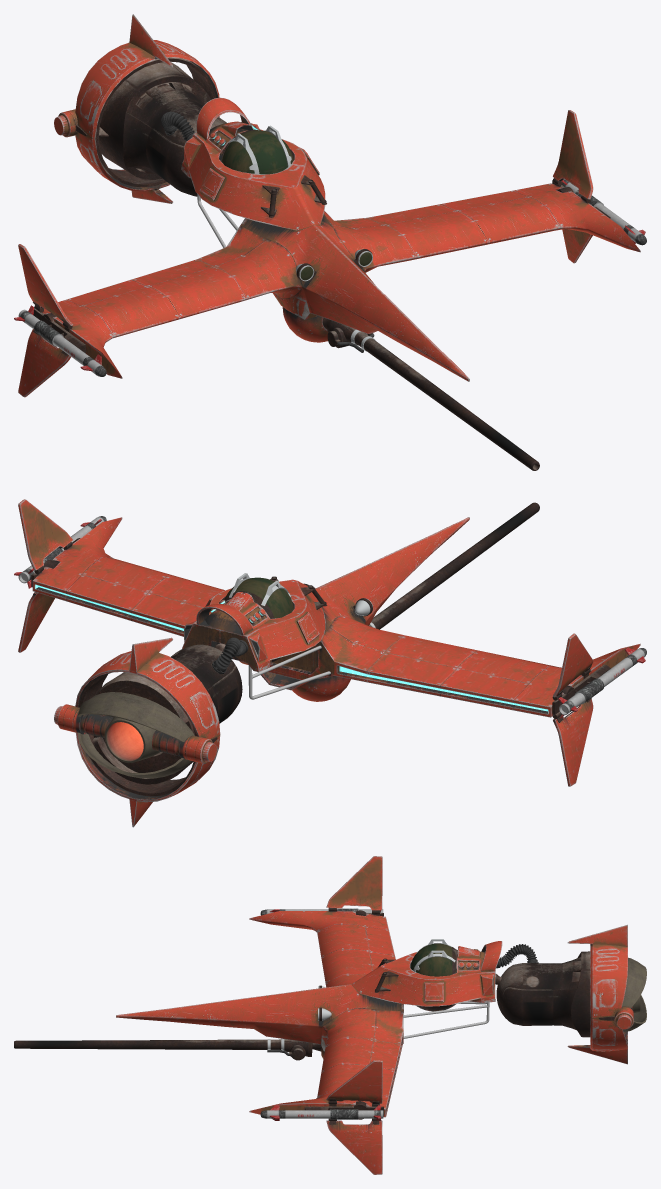
File: inimigoCorsario.glb
The picture shows the model from 3 angles, top to bottom: view 1: azimuth 30°, elevation 25°; view 2: azimuth 150°, elevation 25°; view 3: azimuth 270°, elevation 25°; orthographic projection. The views are drawn at different scales.
Visible parts, largest first — view 1: Body_low, Afterruner_low, MinWings_low, BackWing_low, Barrel_low, Rocket_low, Cockpit_low, WingSup_low, Wings_low, SphereAim_low; view 2: Body_low, Afterruner_low, BackWing_low, MinWings_low, ForwardThrust_low, Rocket_low, FTrotate_low, Barrel_low, WingSup_low, Cockpit_low, SphereAim_low, Wings_low (+2 smaller); view 3: Body_low, Afterruner_low, MinWings_low, BackWing_low, Barrel_low, Rocket_low, ForwardThrust_low, Cockpit_low, Wings_low, Hose_low.
Part boxes in pixels (x1,y1,x2,y2): Body_low: (42, 121, 640, 381); Afterruner_low: (99, 62, 226, 196); MinWings_low: (18, 110, 593, 397); BackWing_low: (75, 14, 219, 203); Barrel_low: (322, 317, 539, 470); Rocket_low: (14, 179, 646, 376); Cockpit_low: (222, 130, 293, 174); WingSup_low: (96, 57, 215, 187); Wings_low: (196, 97, 250, 139); SphereAim_low: (282, 307, 327, 342); Body_low: (32, 517, 640, 717); Afterruner_low: (92, 644, 242, 784); BackWing_low: (75, 637, 220, 827); MinWings_low: (18, 499, 593, 786); ForwardThrust_low: (78, 692, 194, 778); Rocket_low: (14, 516, 646, 718); FTrotate_low: (54, 704, 216, 763); Barrel_low: (369, 502, 539, 629); WingSup_low: (78, 672, 196, 796); Cockpit_low: (224, 577, 293, 618); SphereAim_low: (292, 676, 350, 701); Wings_low: (196, 604, 252, 635); Body_low: (116, 911, 495, 1117); Afterruner_low: (496, 951, 640, 1037); MinWings_low: (326, 856, 382, 1174); BackWing_low: (567, 924, 627, 1064); Barrel_low: (14, 1039, 321, 1060); Rocket_low: (260, 908, 383, 1120); ForwardThrust_low: (622, 957, 646, 1031); Cockpit_low: (410, 943, 456, 976); Wings_low: (480, 941, 502, 971); Hose_low: (496, 944, 538, 968).
Bounding box in the file's own units: 11.06 × 3.66 × 14.17.
1 material, 1 textured.
